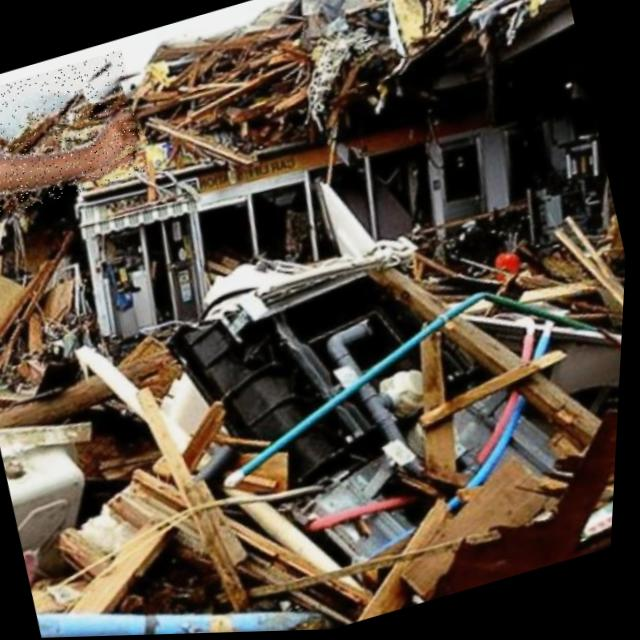Person in Rubble: (0, 48, 155, 223)
